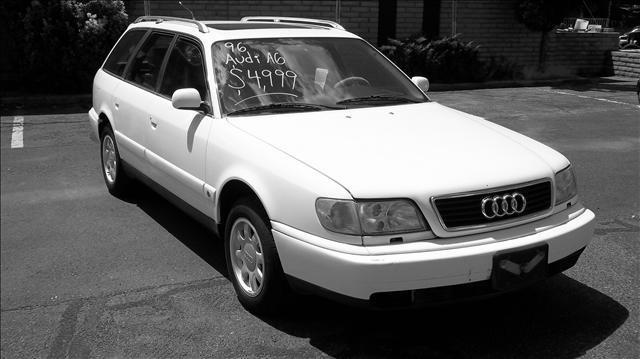car: (89, 1, 597, 316)
